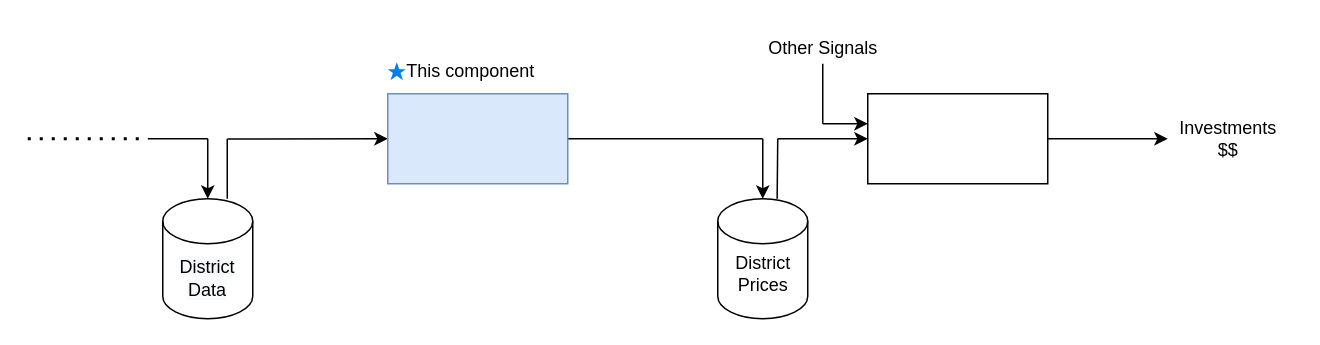
Some shapes in this 1320 by 345 pixel diagram are drawn without their labels. Each missing label, with the centre of its shape:
Investment Analysis: point 957,138
Toronto District Pricing: point 477,138
